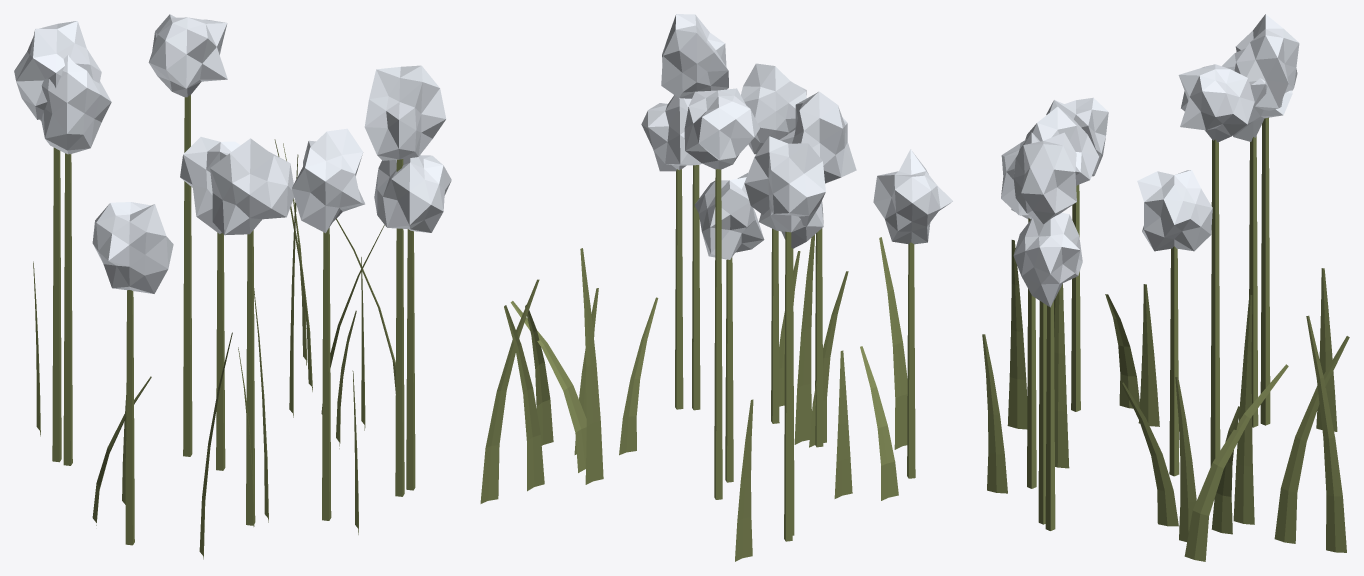
File: TU_Plant_CottonGrass.obj
3 views of the same model, side by side, from view 1: azimuth 30°, elevation 25°; view 2: azimuth 150°, elevation 25°; view 3: azimuth 270°, elevation 25° (orthographic). The views are drawn at different scales.
Visible parts, largest first — view 1: puff_6, puff_2, puff_0, puff_8, puff_5, puff_3, puff_4, puff_7, stem_5, stem_7, stem_4, stem_6 (+12 smaller); view 2: puff_7, puff_5, puff_6, puff_0, puff_1, puff_2, puff_8, puff_3, stem_5, blade_4, stem_7, blade_10 (+19 smaller); view 3: puff_1, puff_6, puff_3, puff_5, puff_7, blade_8, stem_5, blade_6, blade_4, blade_0, stem_7, blade_9 (+18 smaller).
Part boxes in pixels (bbox=[...]): puff_6: bbox=[364, 65, 446, 160]; puff_2: bbox=[210, 138, 294, 235]; puff_0: bbox=[92, 202, 173, 293]; puff_8: bbox=[292, 128, 364, 233]; puff_5: bbox=[148, 14, 227, 97]; puff_3: bbox=[374, 155, 451, 232]; puff_4: bbox=[40, 55, 111, 154]; puff_7: bbox=[14, 21, 101, 119]; stem_5: bbox=[183, 95, 192, 456]; stem_7: bbox=[52, 147, 61, 462]; stem_4: bbox=[63, 153, 72, 465]; stem_6: bbox=[395, 159, 404, 496]; puff_7: bbox=[744, 136, 825, 226]; puff_5: bbox=[684, 88, 759, 169]; puff_6: bbox=[661, 14, 728, 98]; puff_0: bbox=[873, 149, 952, 244]; puff_1: bbox=[694, 173, 764, 259]; puff_2: bbox=[780, 91, 856, 183]; puff_8: bbox=[741, 63, 806, 154]; puff_3: bbox=[641, 95, 701, 171]; stem_5: bbox=[714, 169, 722, 499]; blade_4: bbox=[580, 248, 603, 484]; stem_7: bbox=[784, 231, 792, 541]; blade_10: bbox=[794, 235, 814, 444]; puff_1: bbox=[1137, 170, 1212, 251]; puff_6: bbox=[1013, 132, 1076, 224]; puff_3: bbox=[1013, 212, 1082, 307]; puff_5: bbox=[1178, 64, 1254, 142]; puff_7: bbox=[1234, 14, 1299, 110]; blade_8: bbox=[1306, 315, 1346, 552]; stem_5: bbox=[1210, 139, 1220, 466]; blade_6: bbox=[1184, 364, 1288, 561]; blade_4: bbox=[1233, 294, 1254, 524]; blade_0: bbox=[1274, 336, 1349, 543]; stem_7: bbox=[1260, 117, 1270, 425]; blade_9: bbox=[1007, 240, 1027, 429].
Size of the model in its own units: 2.47 by 2.72 by 2.26.
